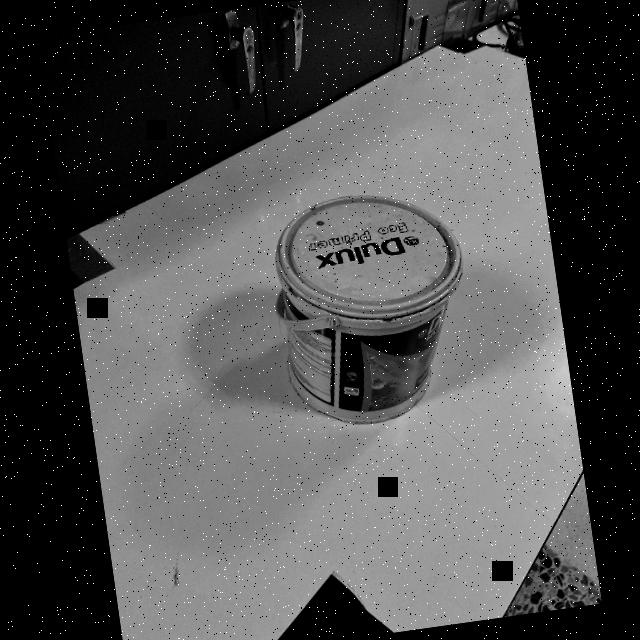paint_bucket: (256, 170, 490, 452)
